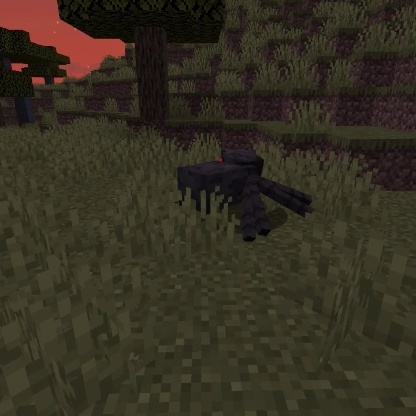spider: (174, 143, 315, 246)
